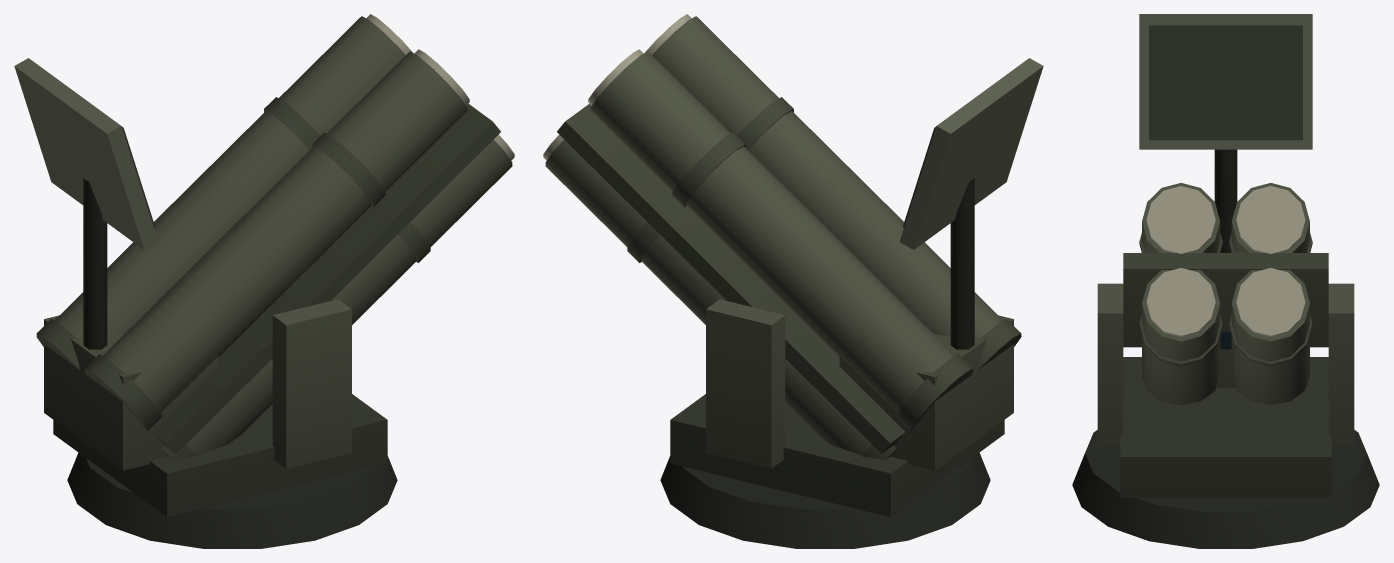
File: m_idome_efb44ac2.glb
3 views of the same model, side by side, from view 1: azimuth 30°, elevation 25°; view 2: azimuth 150°, elevation 25°; view 3: azimuth 270°, elevation 25° (orthographic). The views are drawn at different scales.
Visible parts, largest first — view 1: mesh; view 2: mesh; view 3: mesh.
Part boxes in pixels (x1,y1,x2,y2): mesh: (14, 14, 514, 548); mesh: (543, 14, 1043, 548); mesh: (1072, 14, 1379, 548).
Bounding box in the file's own units: 14.19 × 13.68 × 9.6.
